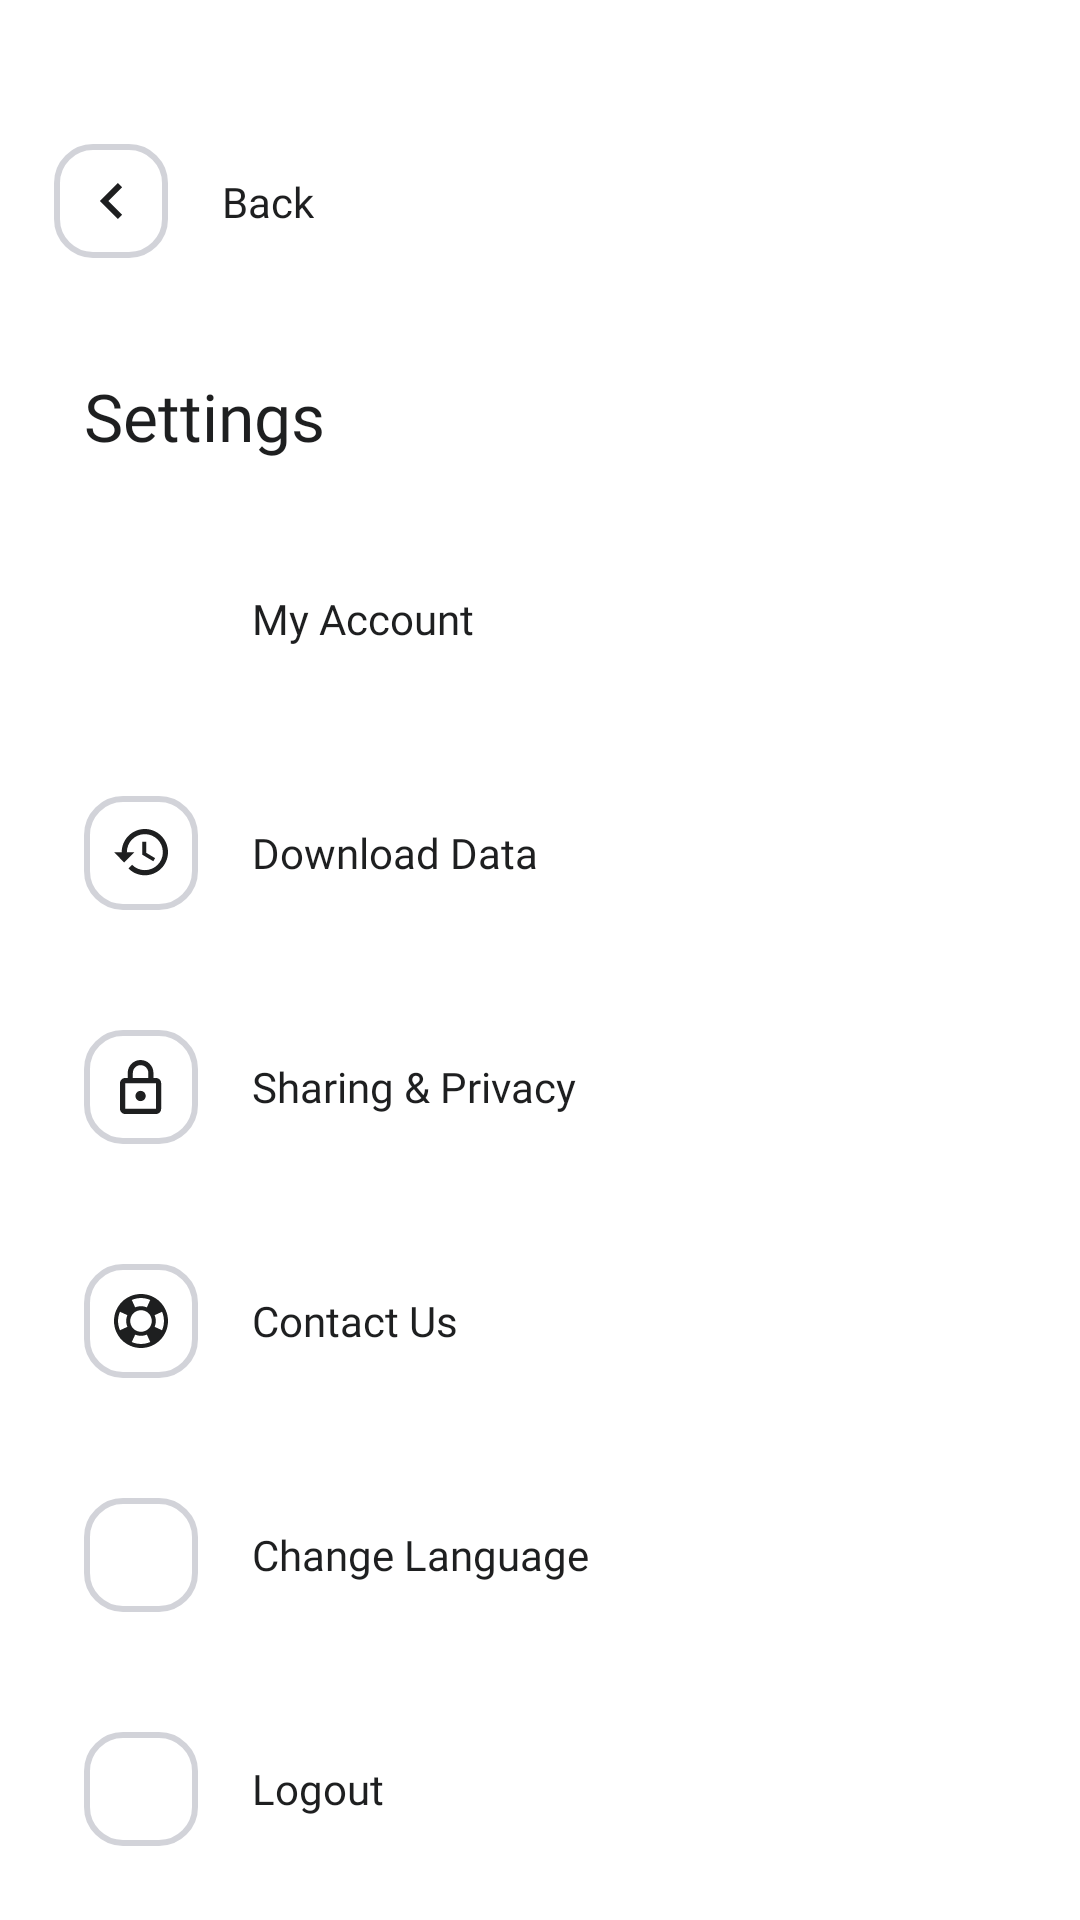

Screen size 1080*1920. Icon name, then its box in pixels as [x1, y1, x2, y2]:
arrow left: [54, 144, 168, 258]
help: [84, 1264, 198, 1378]
history: [84, 796, 198, 910]
lock: [84, 1030, 198, 1144]
